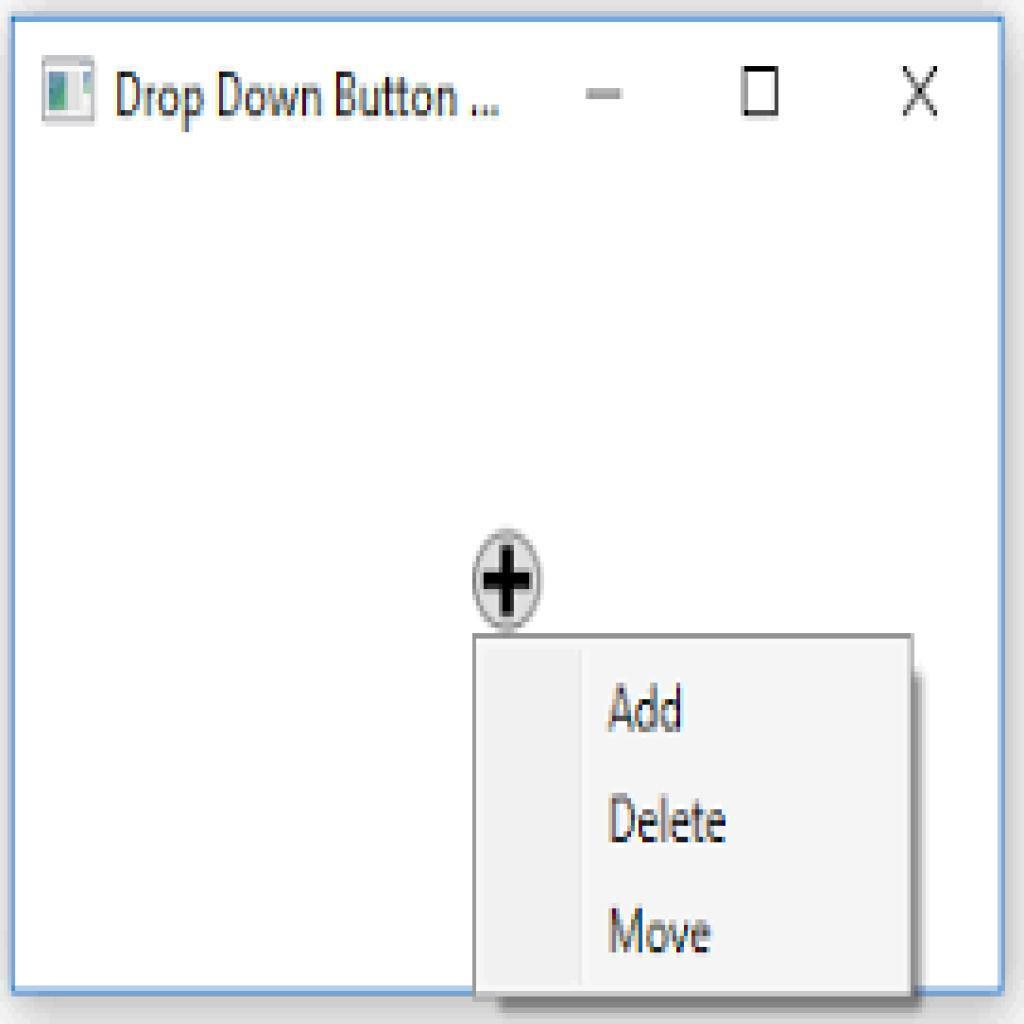checkbox: (740, 65, 782, 120)
icon: (473, 529, 545, 633), (894, 58, 948, 127), (575, 68, 636, 116)
